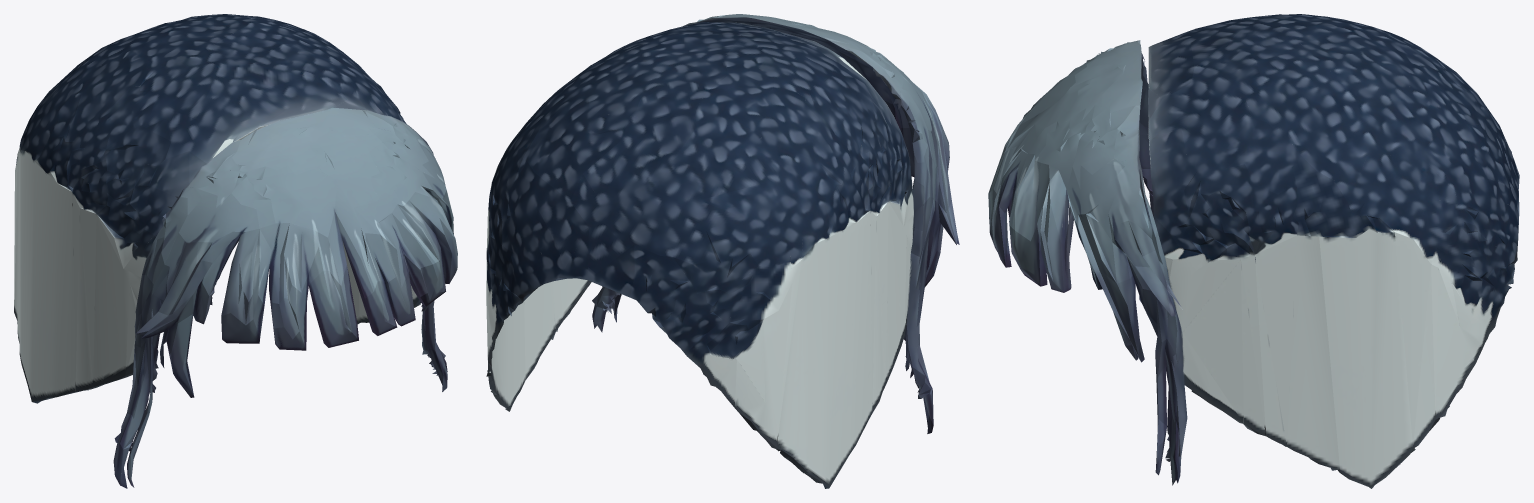
File: nerith_f-meche-3-frange-droite-calotte.glb
3 views of the same model, side by side, from view 1: azimuth 30°, elevation 25°; view 2: azimuth 150°, elevation 25°; view 3: azimuth 270°, elevation 25° (orthographic). The views are drawn at different scales.
Parts seen in each view (by area): view 1: geometry_0; view 2: geometry_0; view 3: geometry_0.
Part boxes in pixels (x1,y1,x2,y2): geometry_0: [14, 14, 457, 488]; geometry_0: [486, 14, 959, 488]; geometry_0: [988, 14, 1519, 488].
Bounding box in the file's own units: 1.45 × 1.53 × 1.9.
1 material, 1 textured.
